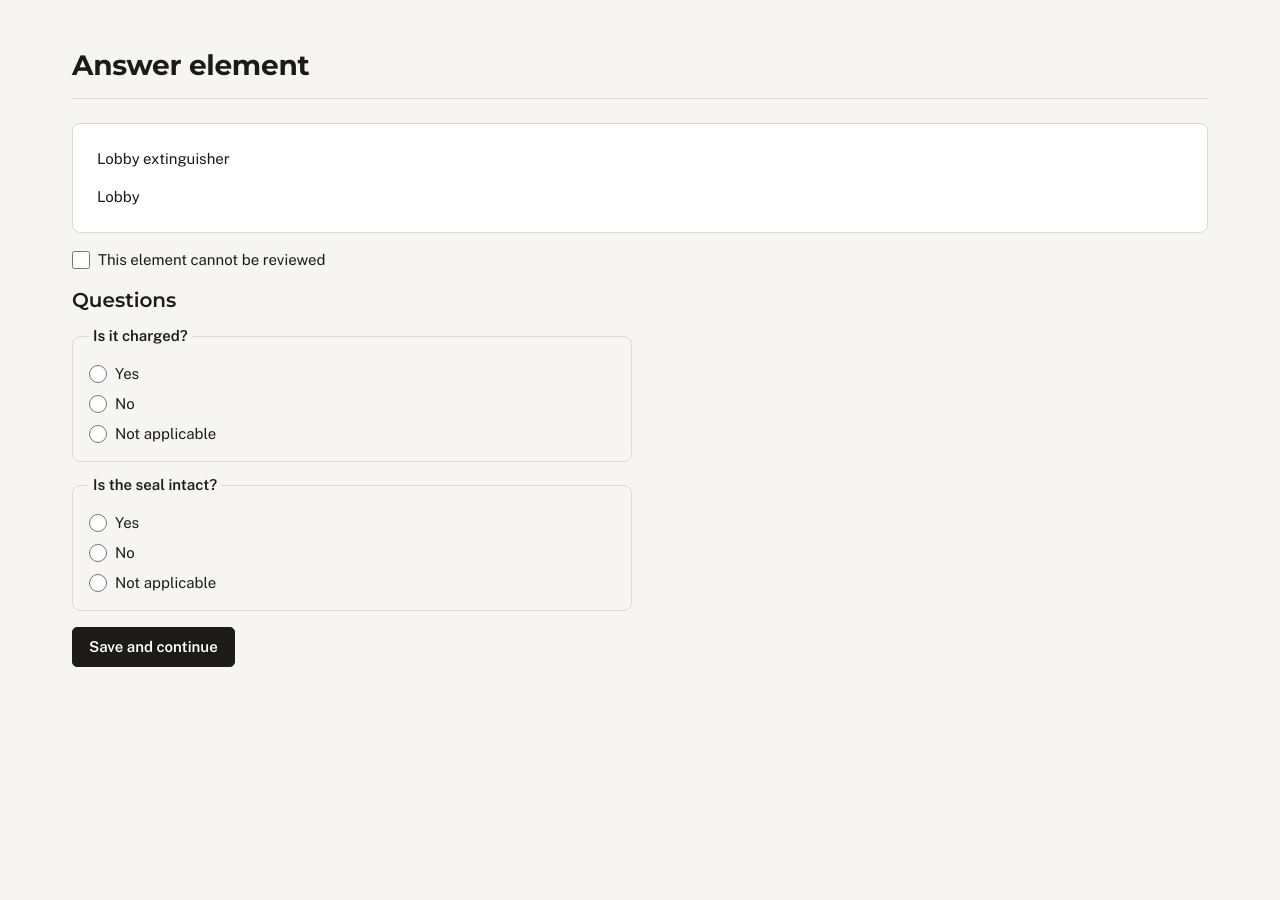
Test: ReviewSessionElementPage › shows the save confirmation between the questions and the Save button
The width and height of the screenshot is (1280, 900).
expect the element with test id "review-session-element-question-q1" is shown: met, box [72, 325, 632, 462]
Click the radio button with test id "review-session-element-answer-q1-YES". click: (98, 374)
box: [89, 365, 107, 383]
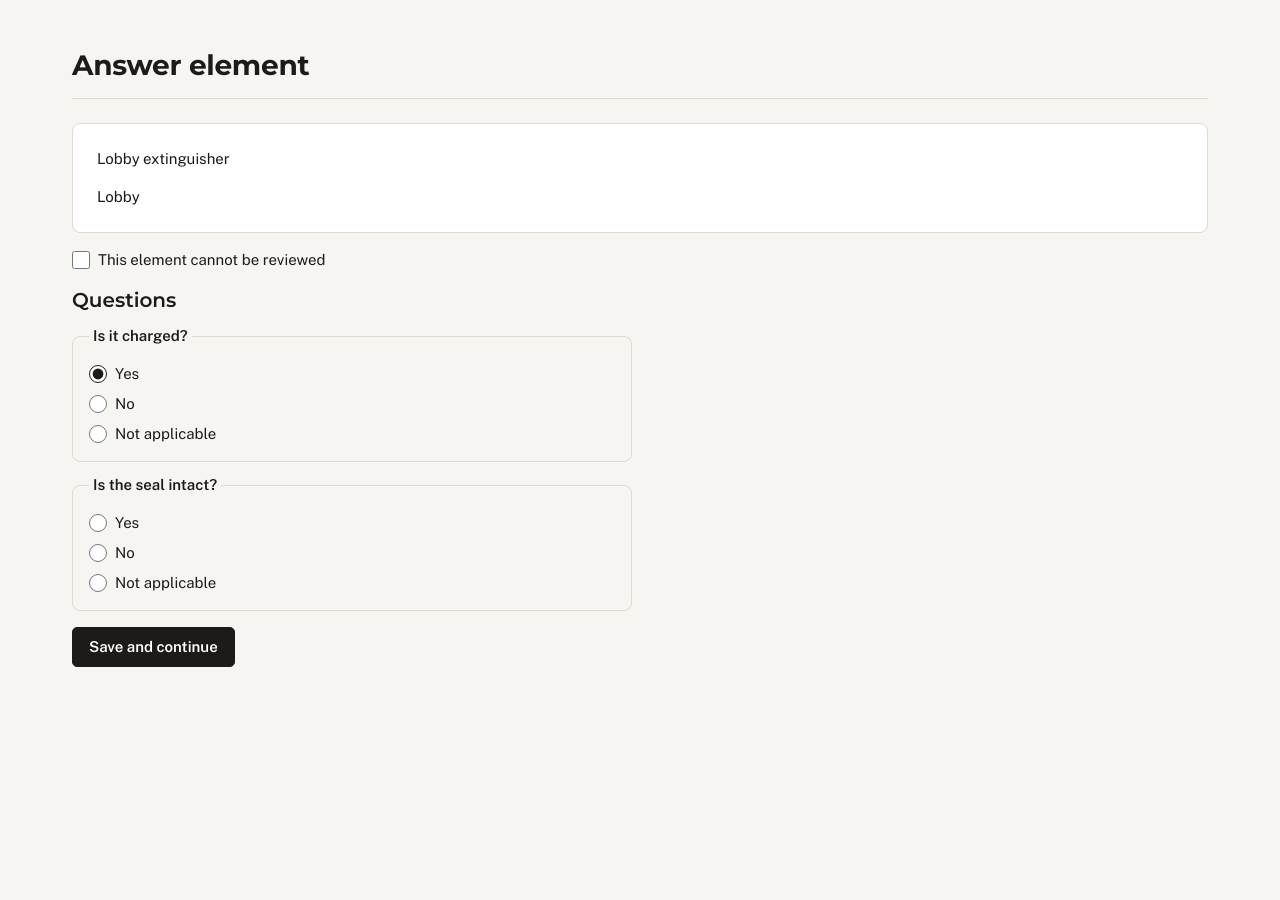
Click the radio button with test id "review-session-element-answer-q2-YES". click: (98, 523)
box: [89, 514, 107, 532]
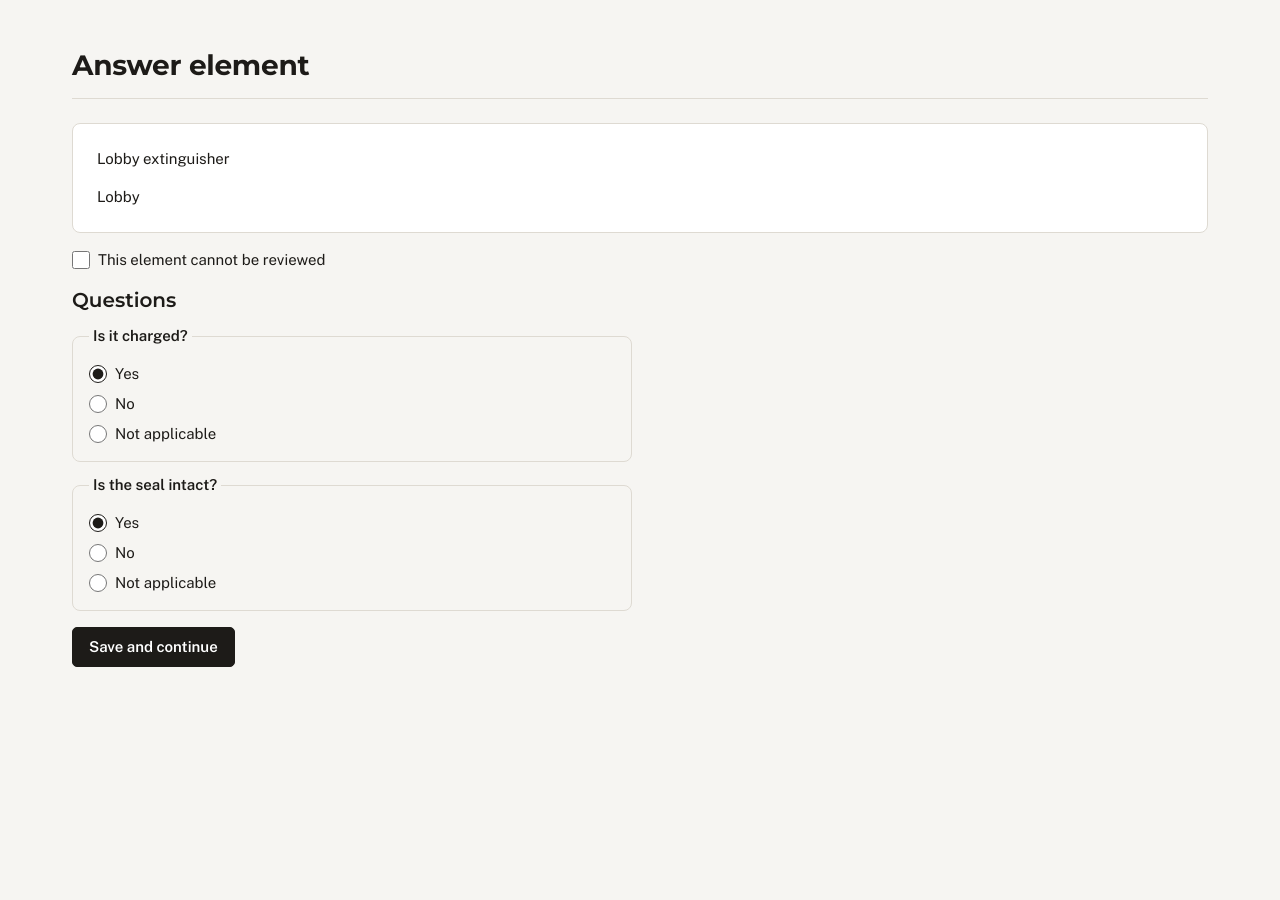
Click the button with test id "review-session-element-save". click: (153, 647)
box: [72, 627, 235, 667]
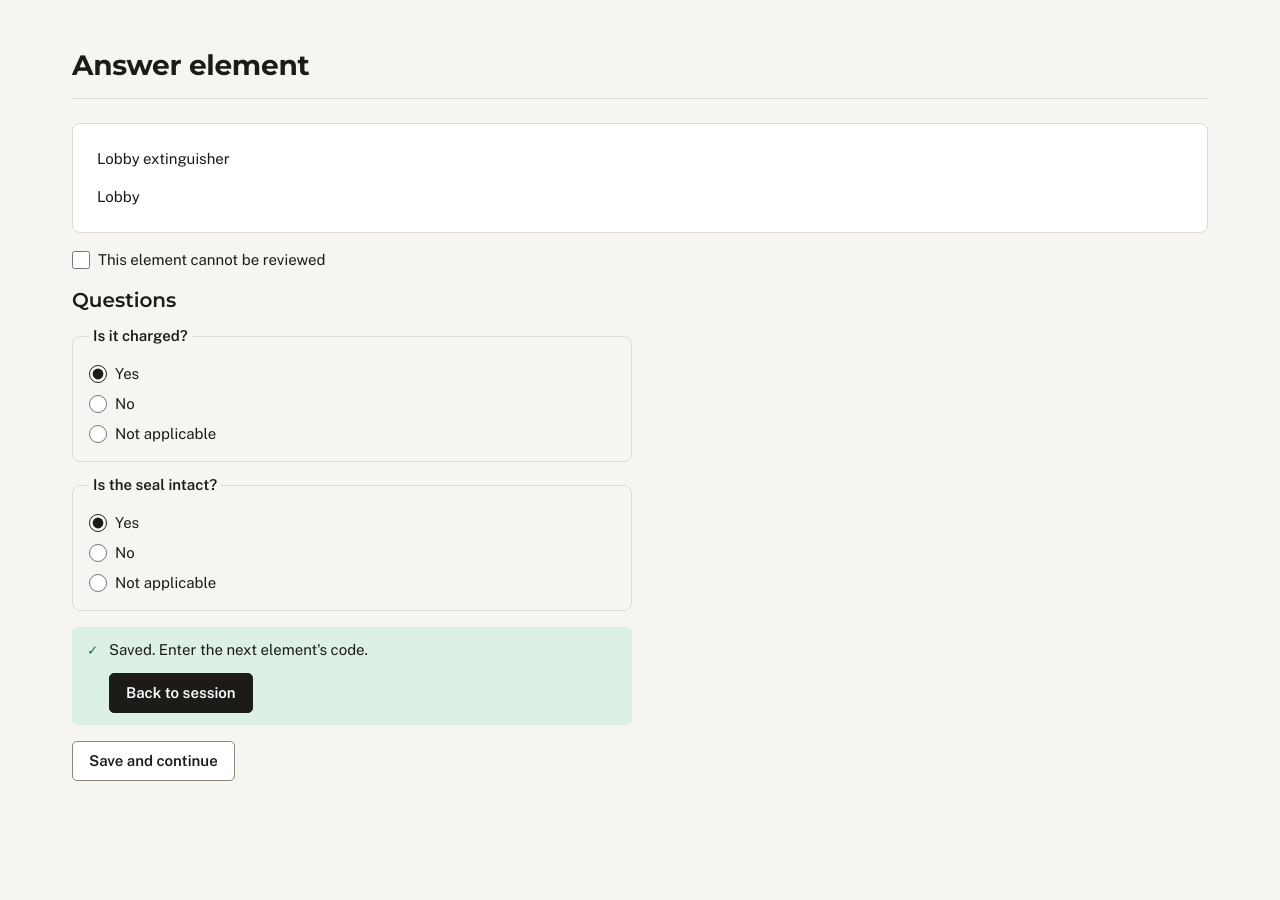
expect the element with test id "review-session-element-saved" is shown: met, box [72, 627, 632, 725]
